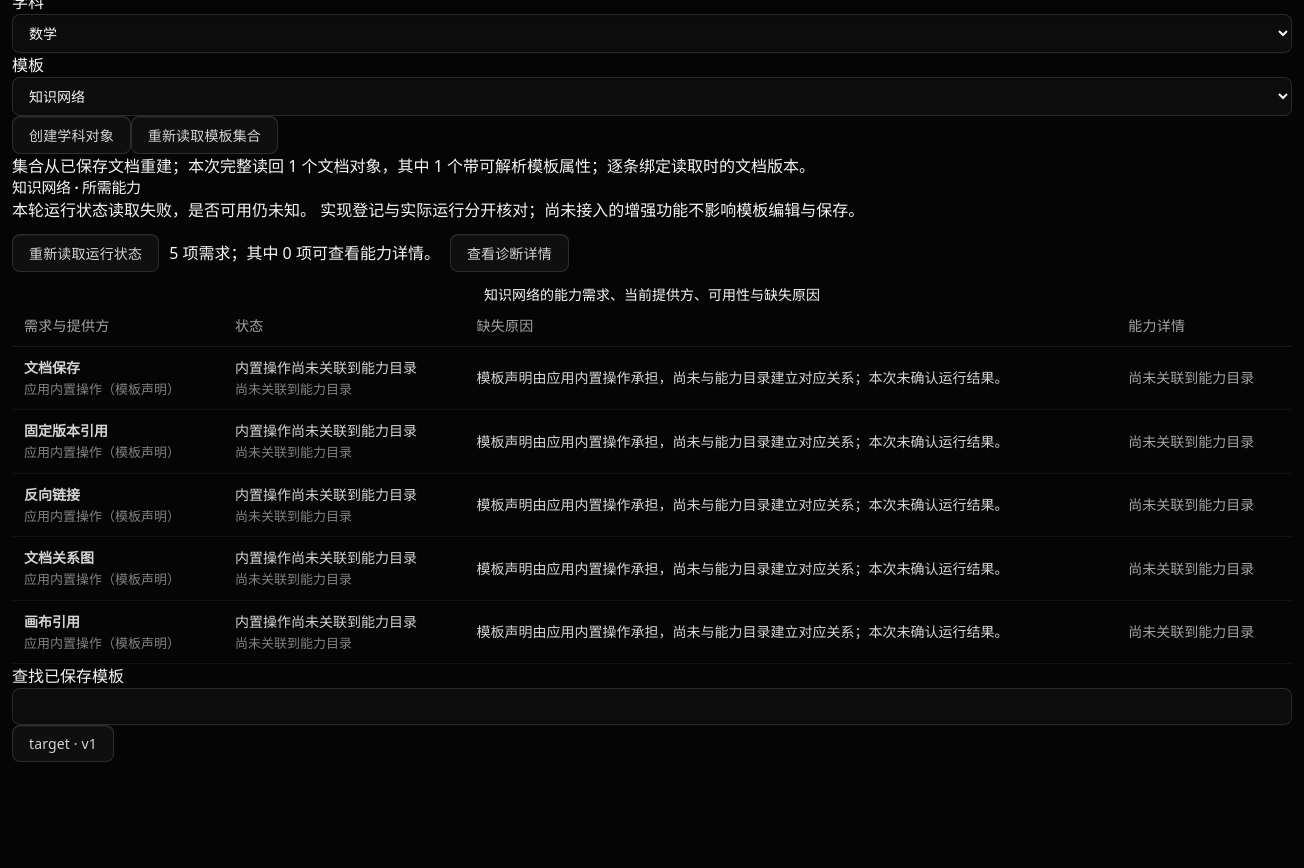
Scenario: complete template document membership › withdraws complete counts and backlinks when a later refresh fails
Click the button "target · v1": (63, 744) [12, 725, 114, 762]
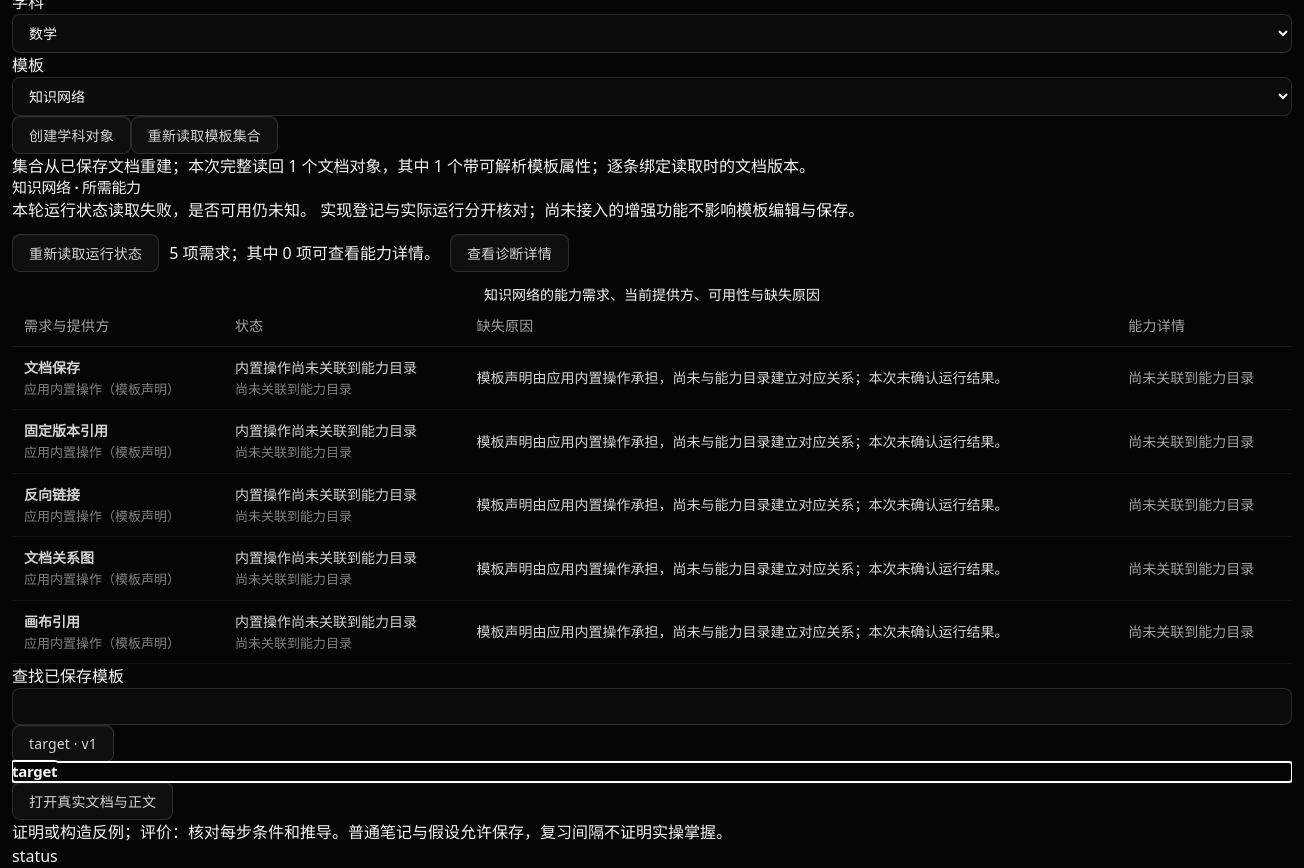
Expected: the text "集合从已保存文档重建；本次完整读回 1 个文档对象，其中 1 个带可解析模板属性；逐条绑定读取时的文档版本。" is shown, [12, 155, 815, 177]
Click the button "创建学科对象": (71, 135) [12, 116, 131, 154]
(page scrolled)
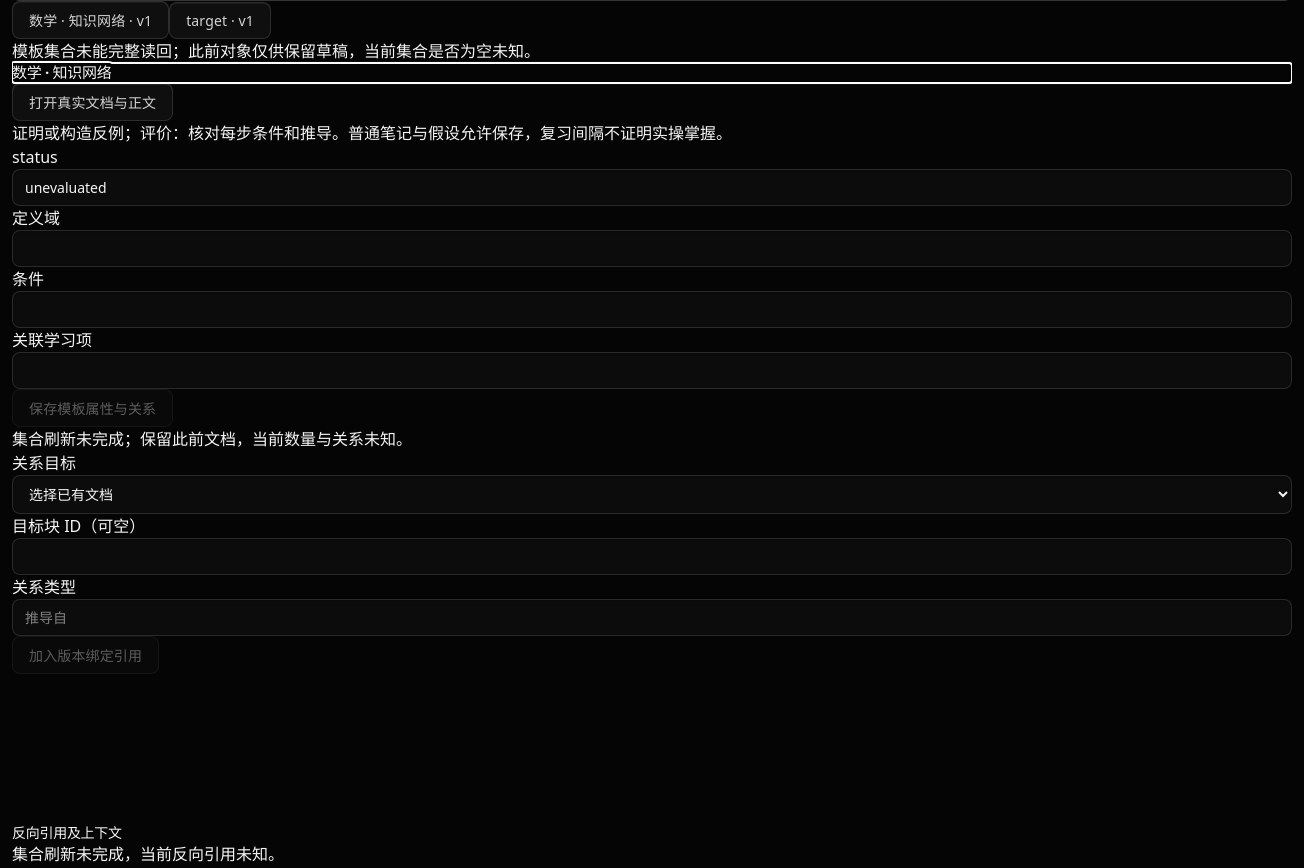
Now the text "集合刷新未完成，当前反向引用未知。" is shown, box [12, 843, 284, 865]
Now the text "本次完整读回" is gone
